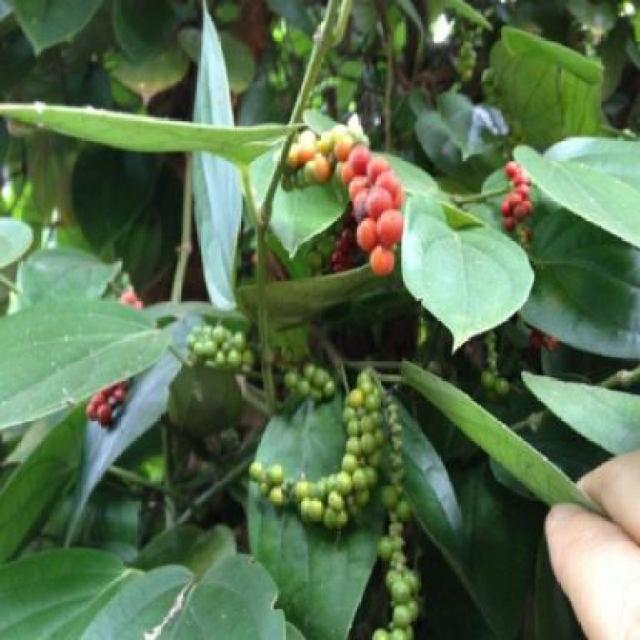RIPE: (311, 92, 403, 305), (503, 137, 529, 248)
UNRIPE: (249, 379, 402, 542)
